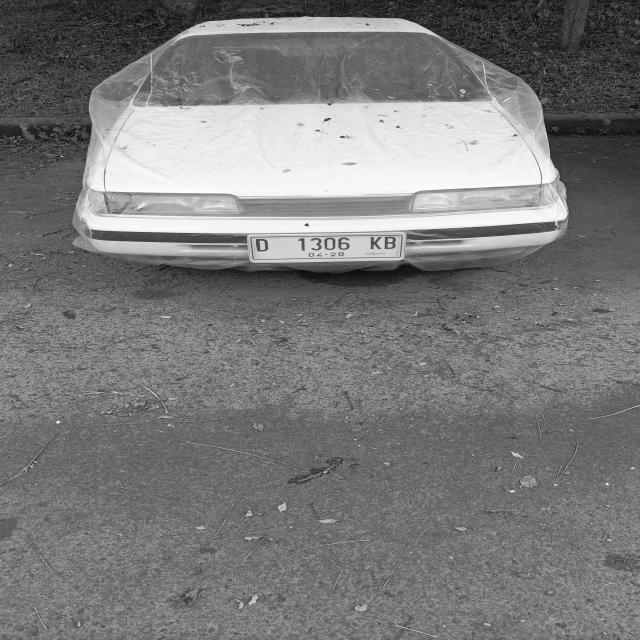license-plat: (229, 232, 418, 263)
